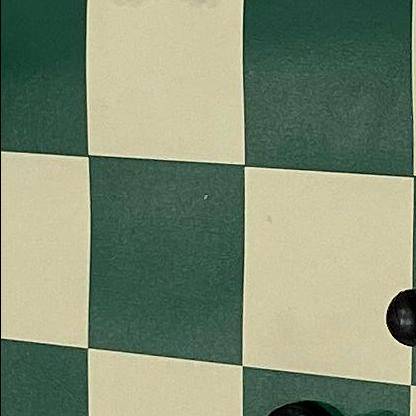black-pawn: (359, 234, 416, 376)
